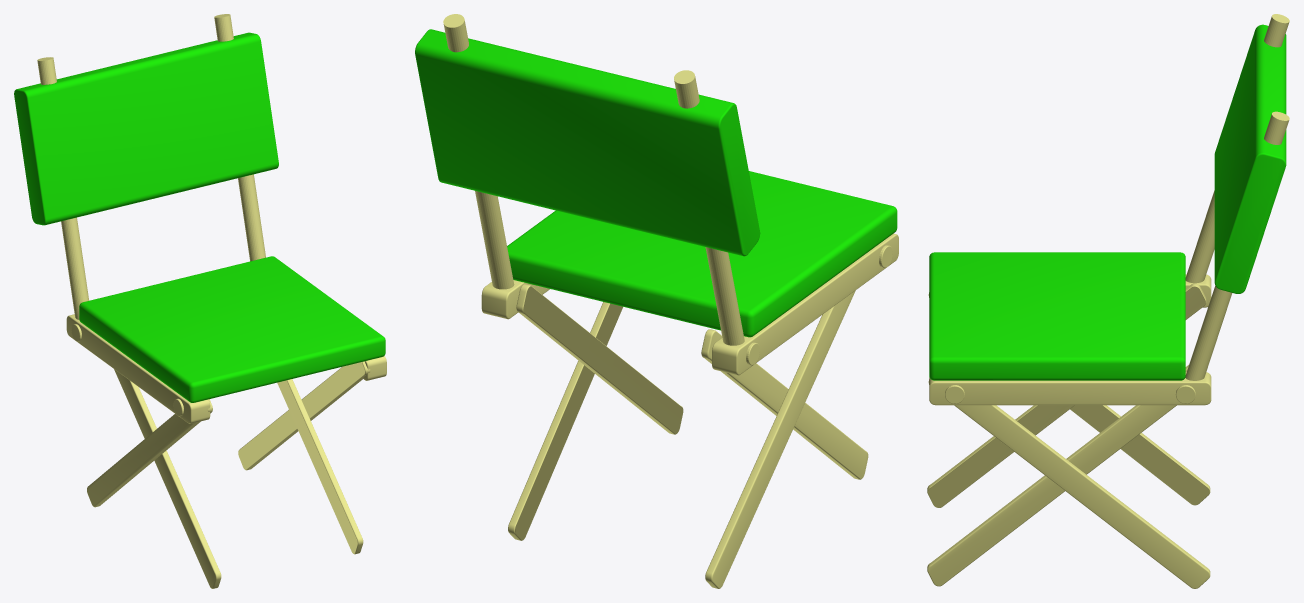
The model's file is 小凳子.glb.
3 renders of one model, left to right at view 1: azimuth 30°, elevation 25°; view 2: azimuth 150°, elevation 25°; view 3: azimuth 270°, elevation 25°, orthographic. The views are drawn at different scales.
Visible parts, largest first — view 1: 立方体.004, 立方体, 立方体.003, 立方体.001, 柱体.002, 立方体.002; view 2: 立方体.004, 立方体, 立方体.001, 立方体.003, 立方体.002, 柱体.002; view 3: 立方体, 立方体.004, 立方体.001, 立方体.003, 立方体.002, 柱体.002.
Part boxes in pixels (x1,y1,x2,y2): 立方体.004: [14, 32, 278, 225]; 立方体: [79, 256, 385, 402]; 立方体.003: [114, 369, 363, 588]; 立方体.001: [87, 361, 370, 507]; 柱体.002: [37, 14, 265, 319]; 立方体.002: [66, 314, 386, 423]; 立方体.004: [415, 29, 760, 256]; 立方体: [507, 171, 897, 337]; 立方体.001: [508, 290, 855, 588]; 立方体.003: [516, 284, 868, 479]; 立方体.002: [481, 233, 898, 375]; 柱体.002: [443, 14, 744, 345]; 立方体: [929, 252, 1185, 380]; 立方体.004: [1214, 24, 1286, 293]; 立方体.001: [928, 292, 1210, 588]; 立方体.003: [927, 283, 1206, 586]; 立方体.002: [929, 274, 1211, 405]; 柱体.002: [1185, 14, 1289, 380].
Bounding box in the file's own units: 2.39 × 4.14 × 2.83.
